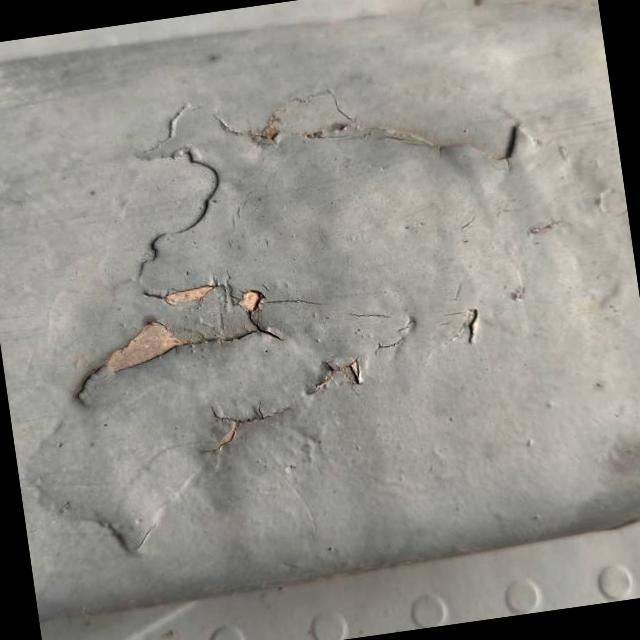paint-off: (76, 255, 300, 398)
